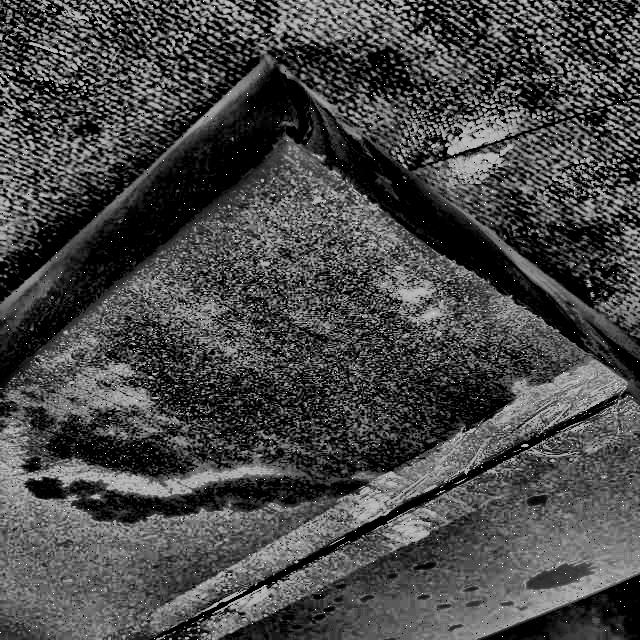box: (1, 42, 639, 639)
wet: (0, 62, 594, 522)
